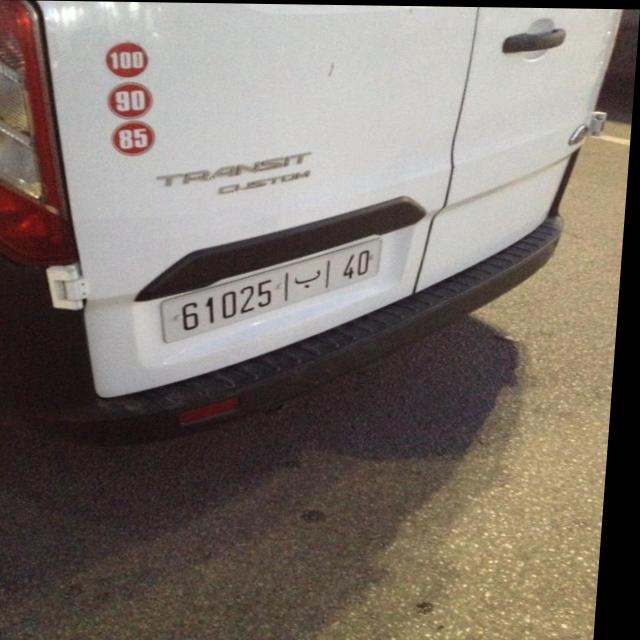License-Plate: (166, 238, 383, 342)
